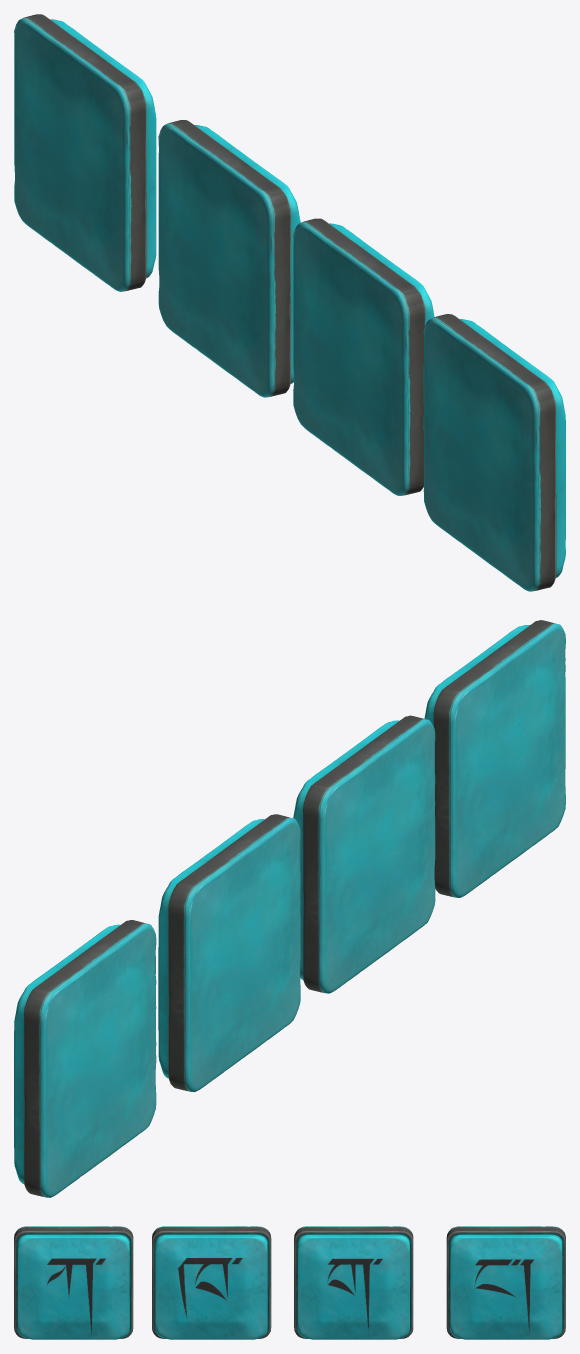
File: Letter_tiles KA KHA GA NGA.fbx
The picture shows the model from 3 angles, top to bottom: view 1: azimuth 30°, elevation 25°; view 2: azimuth 150°, elevation 25°; view 3: azimuth 270°, elevation 25°; orthographic projection. The views are drawn at different scales.
Parts seen in each view (by area): view 1: Mesh0_n3d4, Mesh0_n3d, Mesh0_n3d3, Mesh0_n3d2; view 2: Mesh0_n3d3, Mesh0_n3d4, Mesh0_n3d2, Mesh0_n3d; view 3: Mesh0_n3d3, Mesh0_n3d, Mesh0_n3d2, Mesh0_n3d4.
Boxes of the visible parts, bbox=[...] form: Mesh0_n3d4: bbox=[14, 14, 156, 291]; Mesh0_n3d: bbox=[423, 314, 565, 591]; Mesh0_n3d3: bbox=[158, 120, 300, 397]; Mesh0_n3d2: bbox=[293, 218, 434, 495]; Mesh0_n3d3: bbox=[158, 814, 300, 1092]; Mesh0_n3d4: bbox=[14, 920, 156, 1197]; Mesh0_n3d2: bbox=[293, 715, 435, 993]; Mesh0_n3d: bbox=[424, 620, 565, 897]; Mesh0_n3d3: bbox=[294, 1226, 413, 1339]; Mesh0_n3d: bbox=[14, 1226, 133, 1339]; Mesh0_n3d2: bbox=[152, 1226, 271, 1339]; Mesh0_n3d4: bbox=[446, 1226, 565, 1339].
Size of the model in its own units: 0.4522 by 2 by 9.26.
Materials: 4 (4 with a texture image).
